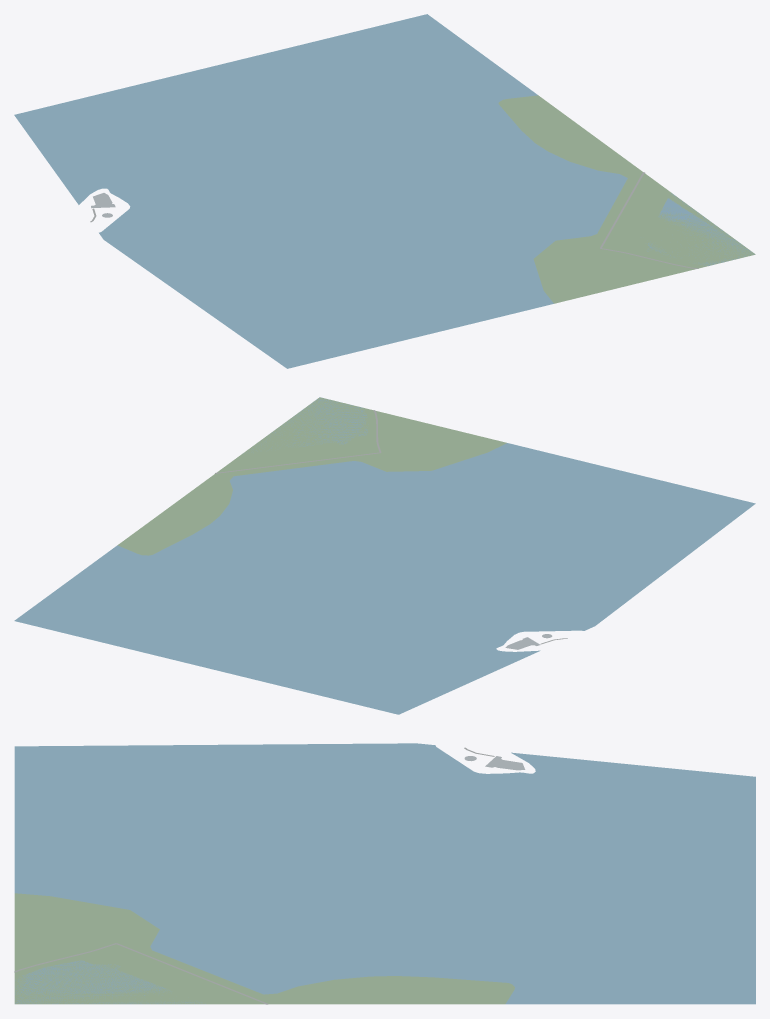
The model's file is -13_18-known-coarse.glb.
3 renders of one model, top to bottom at view 1: azimuth 30°, elevation 25°; view 2: azimuth 150°, elevation 25°; view 3: azimuth 270°, elevation 25°, orthographic. The views are drawn at different scales.
Bounding box in the file's own units: 830 × 0.15 × 996.
